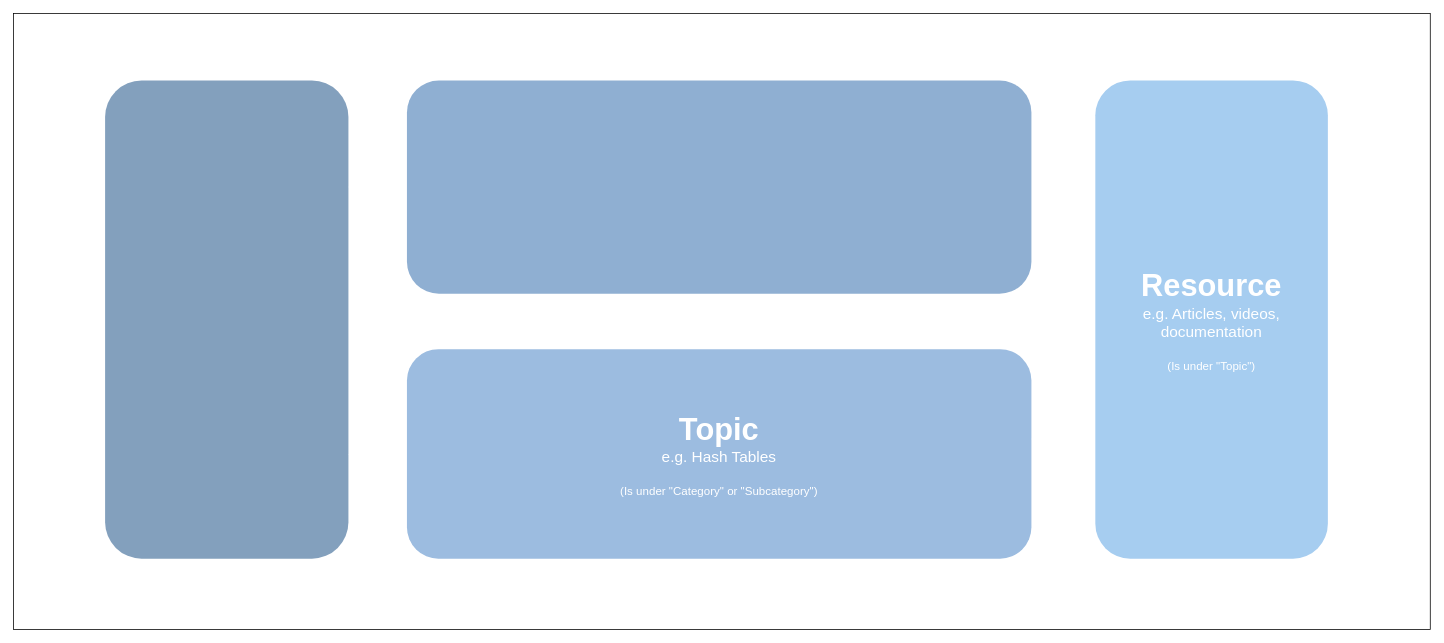
The diagram is 1444 pixels wide and 643 high, and some of its shapes have lost their labels. Here are the shapes that lost their labels. From the top down, the centre of each, then its label:
(x=719, y=186): Subcategory e.g. Data Structures & algorithms (Is under "Category")
(x=226, y=319): Category e.g. Programming
